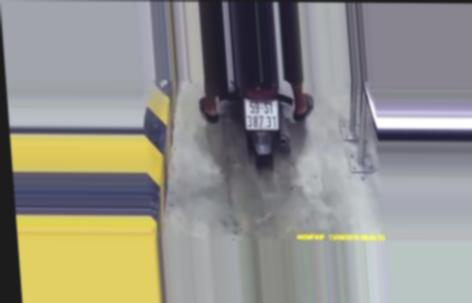License_Plate: (240, 96, 282, 131)
